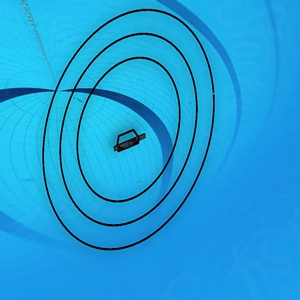circle: (41, 4, 221, 260)
submarine: (116, 133, 150, 152)
